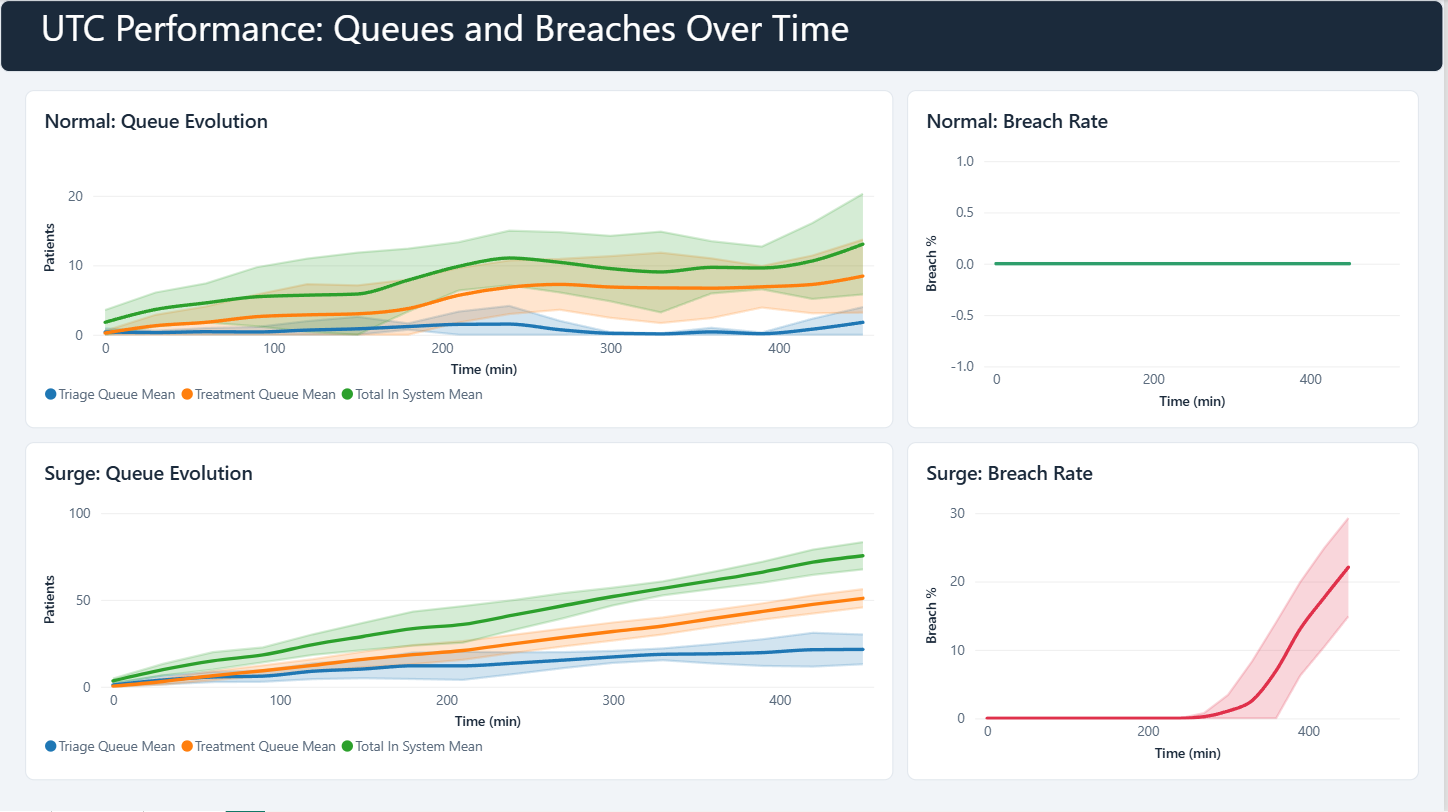

What the dashboard file says about the page in this screenshot:
{"tool":"powerbi","page":{"name":"Overtime","canvas":[1280,720],"ordinal":1},"visuals":[{"type":"textbox","box":[0,0,1280,64],"z":0},{"type":"lineChart","title":"Normal: Queue Evolution","fields":{"Category":["Timeseries.Time_Interval"],"Y":["_Measures.Triage Queue Mean","_Measures.Treatment Queue Mean","_Measures.Total In System Mean"]},"box":[22,80,770,300],"z":1000},{"type":"lineChart","title":"Surge: Queue Evolution","fields":{"Category":["Timeseries.Time_Interval"],"Y":["_Measures.Triage Queue Mean","_Measures.Treatment Queue Mean","_Measures.Total In System Mean"]},"box":[22,392,770,300],"z":1001},{"type":"lineChart","title":"Normal: Breach Rate","fields":{"Category":["Timeseries.Time_Interval"],"Y":["_Measures.Breach % Over Time Mean"]},"box":[804,80,454,300],"z":1002},{"type":"lineChart","title":"Surge: Breach Rate","fields":{"Category":["Timeseries.Time_Interval"],"Y":["_Measures.Breach % Over Time Mean"]},"box":[804,392.3,454,300],"z":1003}]}

Visuals, with their boxes in screenshot pixels (x1, y1, x2, y2), scaled from the page's 1280x720 canvas onto the 1448x812 screenshot:
textbox: left=0, top=0, right=1447, bottom=72
"Normal: Queue Evolution" lineChart: left=25, top=90, right=896, bottom=429
"Surge: Queue Evolution" lineChart: left=25, top=442, right=896, bottom=780
"Normal: Breach Rate" lineChart: left=910, top=90, right=1423, bottom=429
"Surge: Breach Rate" lineChart: left=910, top=442, right=1423, bottom=781
